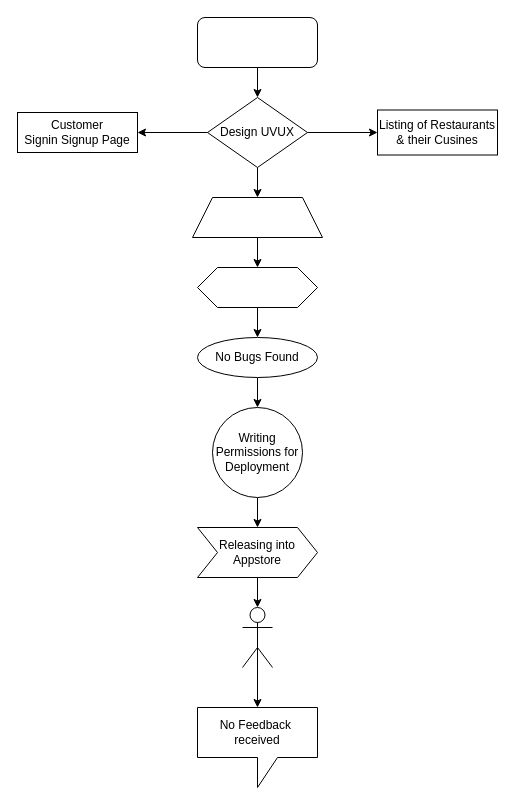
This 515x805 diagram has some shape labels left out. Here are the shapes that lost their labels. From the top down, the centre of each, then its label:
the point at 257,42: Cup of Love
the point at 257,217: Checkout Page & RTS
the point at 257,287: Compiling into apk
the point at 257,637: Customer Using Application
